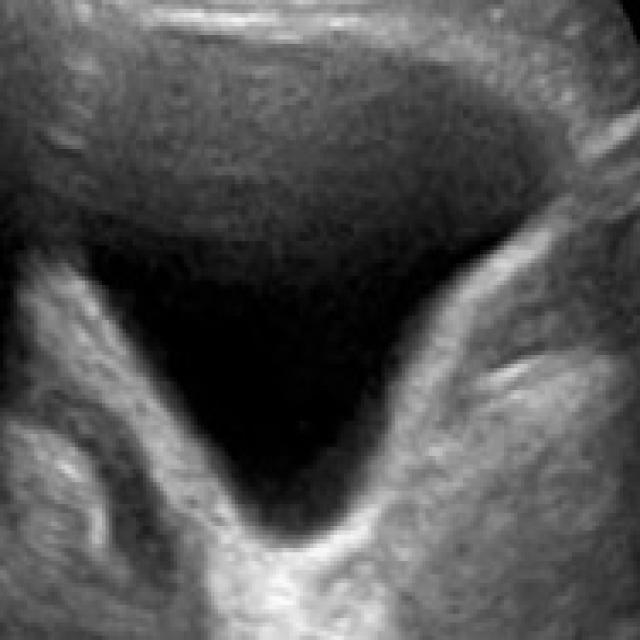bladder: (47, 0, 605, 602)
